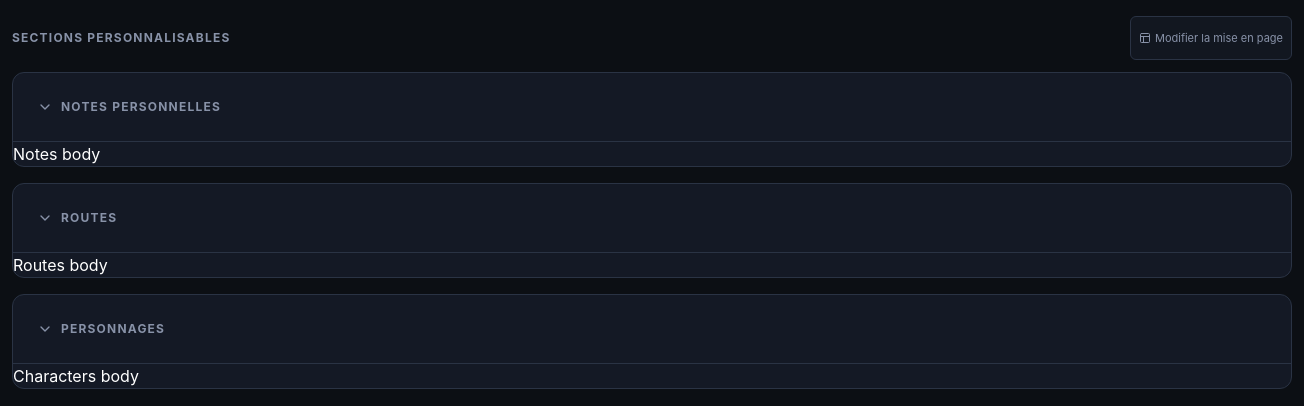
Test: VnDetailLayout › cancel discards draft edits and returns to normal mode
Click the button "Modifier la mise en page": (1211, 38) [1130,16,1292,60]
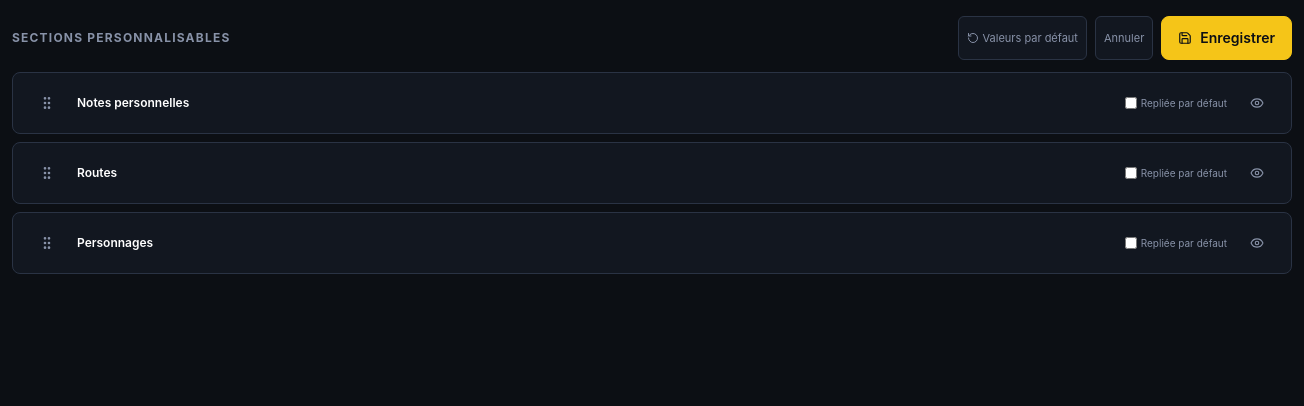
Click the button named "Masquer cette section" in the row of "Notes personnelles": (1257, 103) [1235,81,1279,125]
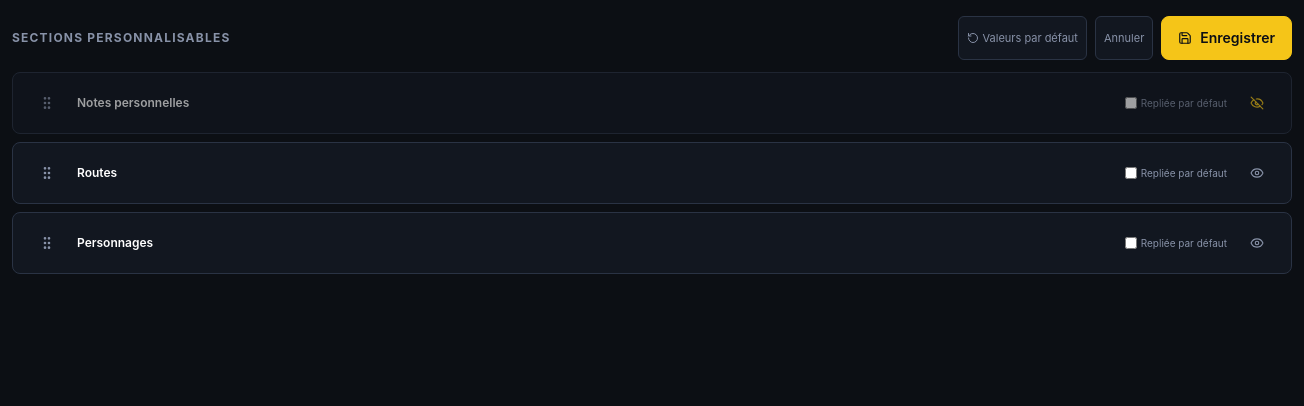
Click the button "Annuler": (1124, 38) [1095,16,1153,60]
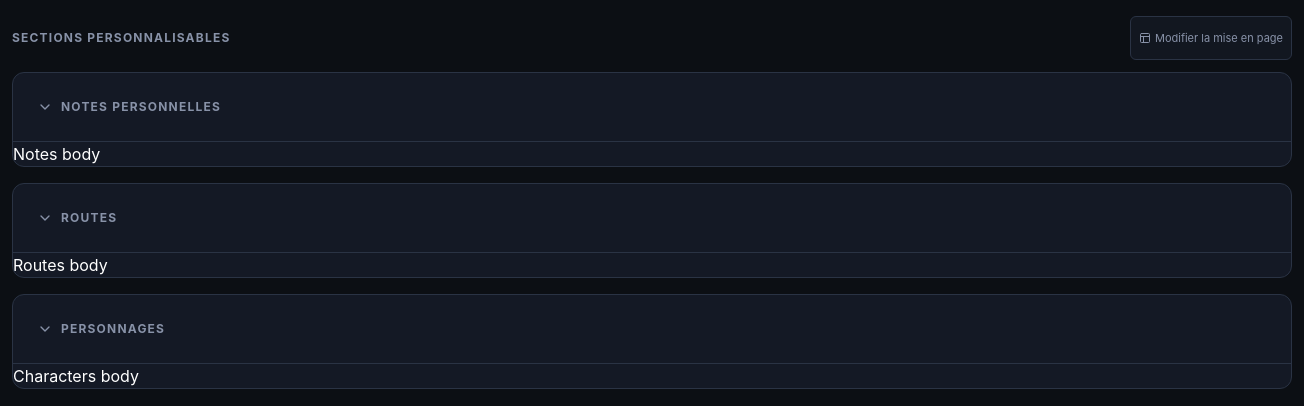
expect the text "Notes body" is shown: met, box [13,144,100,164]
